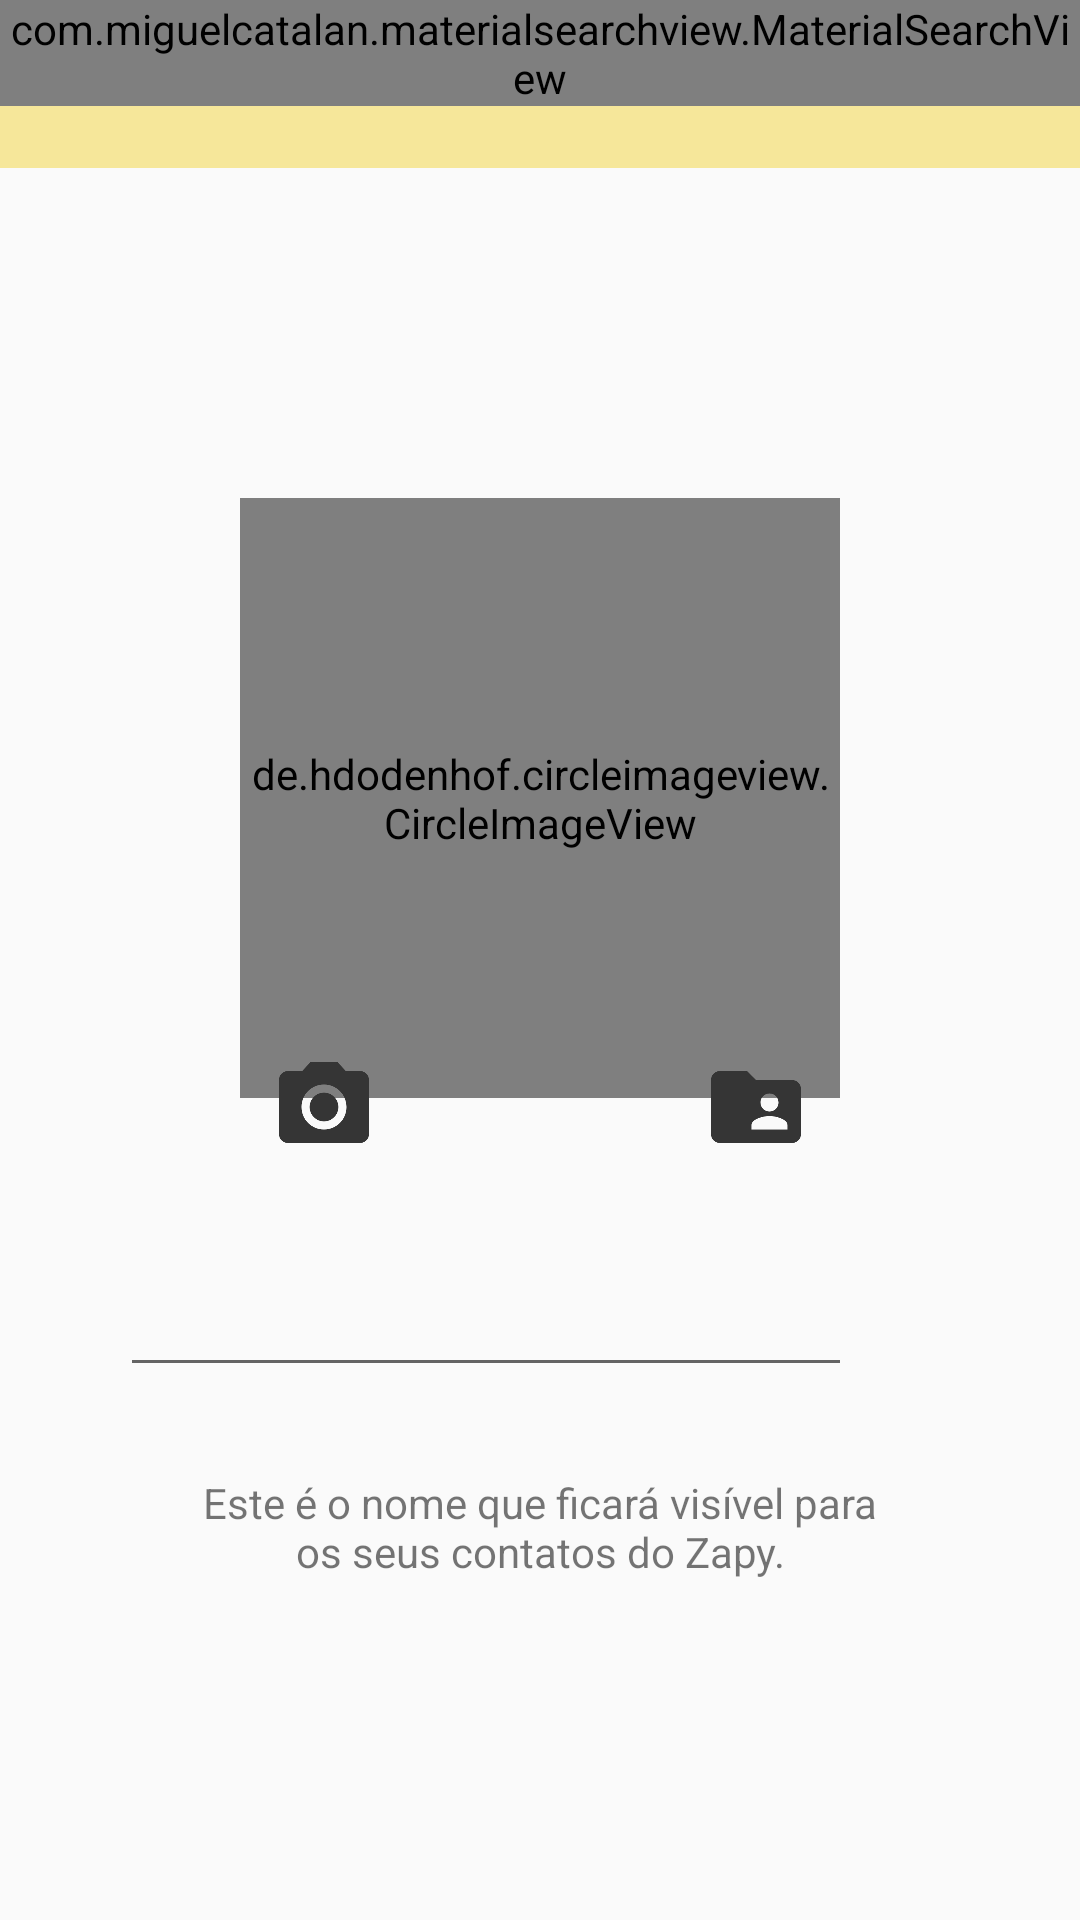

Named icons in this screenshot (1080*1920) and their centers, point (x, y):
camera: point (324, 1107)
folder: point (756, 1107)
